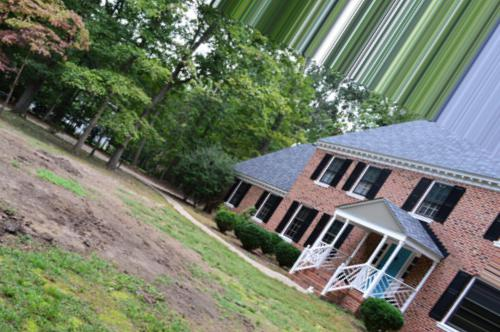patch: (12, 172, 96, 244), (113, 212, 184, 286), (187, 295, 227, 326)
